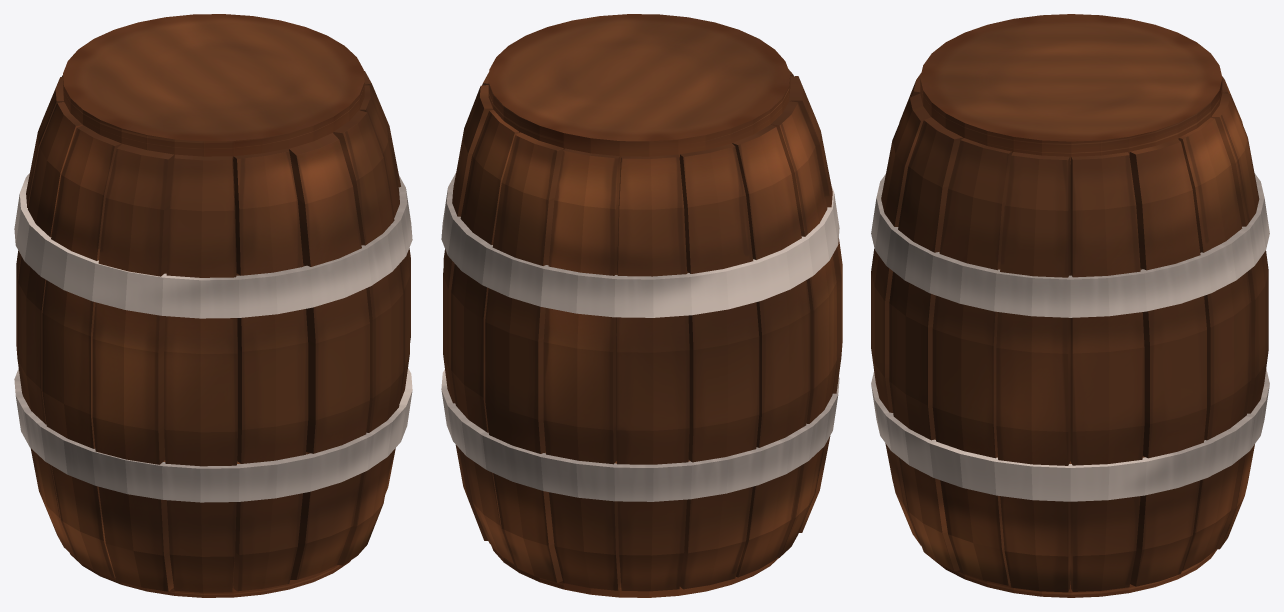
Rendered from barrel_mod.fbx.
The picture shows the model from 3 angles, left to right: view 1: azimuth 30°, elevation 25°; view 2: azimuth 150°, elevation 25°; view 3: azimuth 270°, elevation 25°; orthographic projection.
Visible parts, largest first — view 1: Cylinder.090, Cylinder.087, Cylinder.089, Cylinder.088; view 2: Cylinder.090, Cylinder.087, Cylinder.089, Cylinder.088; view 3: Cylinder.090, Cylinder.087, Cylinder.089, Cylinder.088.
Part boxes in pixels (box(x1,y1,x2,y2)): Cylinder.090: box(16, 70, 410, 592); Cylinder.087: box(63, 14, 364, 158); Cylinder.089: box(14, 173, 412, 502); Cylinder.088: box(70, 460, 350, 597); Cylinder.090: box(443, 69, 842, 591); Cylinder.087: box(488, 14, 790, 161); Cylinder.089: box(441, 172, 839, 501); Cylinder.088: box(491, 460, 778, 597); Cylinder.090: box(871, 73, 1268, 592); Cylinder.087: box(920, 14, 1222, 164); Cylinder.089: box(871, 173, 1269, 501); Cylinder.088: box(938, 456, 1217, 597).
Bounding box in the file's own units: 210 × 266 × 210.
3 materials, 3 textured.
